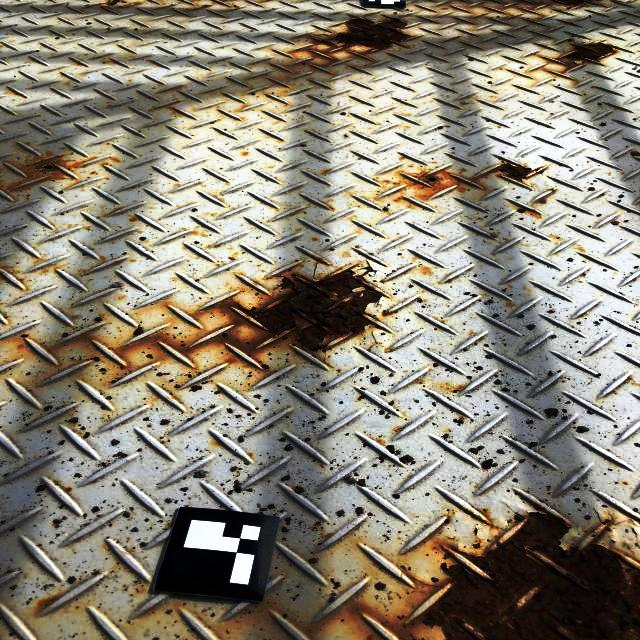Corrosion: (423, 515, 640, 640), (240, 269, 382, 352), (313, 17, 408, 49), (9, 156, 93, 188), (405, 169, 464, 196), (495, 158, 549, 181), (562, 41, 617, 63), (552, 0, 591, 7), (104, 0, 122, 5)
